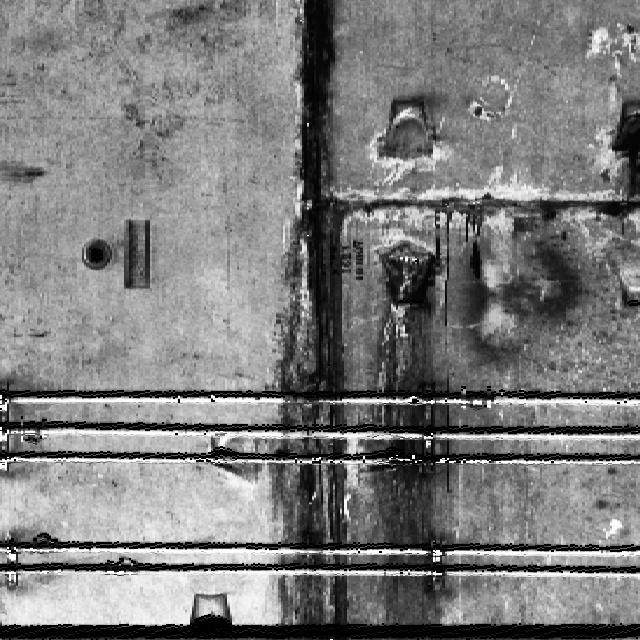leakage: (265, 0, 351, 630), (366, 258, 460, 629), (363, 181, 591, 234), (595, 78, 639, 209)
